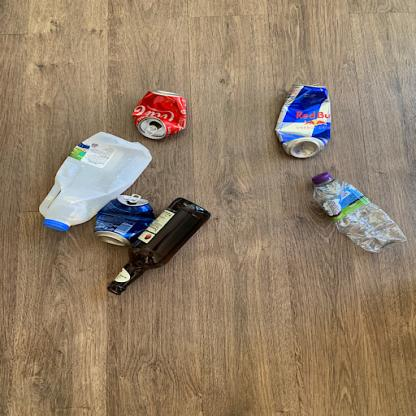trash: (36, 131, 152, 233), (105, 196, 216, 296), (310, 172, 407, 256), (276, 84, 334, 158), (92, 194, 158, 247), (129, 91, 192, 137)
